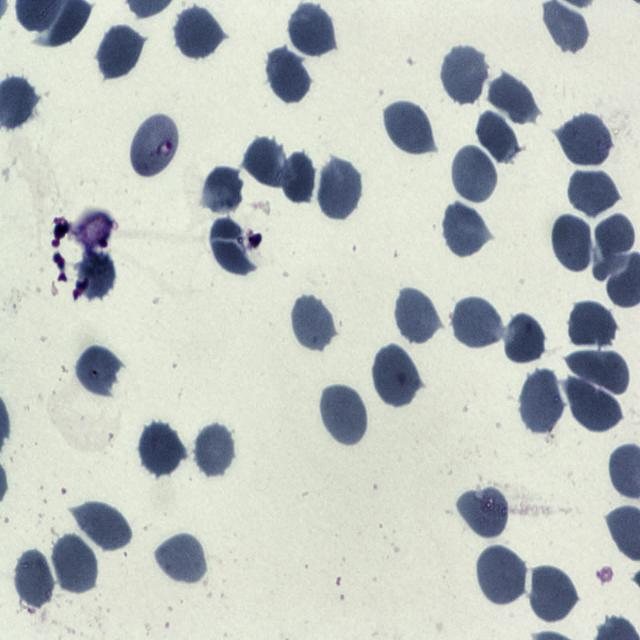red blood cell: (476, 542, 528, 608), (371, 342, 421, 410), (318, 382, 369, 448), (564, 345, 630, 396), (566, 376, 624, 434), (519, 367, 565, 438), (74, 500, 134, 554), (528, 563, 580, 624), (450, 142, 499, 206), (440, 43, 489, 107), (51, 532, 99, 597), (318, 155, 364, 222), (393, 284, 442, 346), (559, 111, 613, 167), (486, 69, 539, 126), (382, 98, 434, 156), (593, 212, 636, 282), (451, 294, 504, 350), (440, 202, 491, 259), (290, 293, 336, 355), (154, 532, 207, 585), (458, 485, 508, 541), (207, 218, 254, 277), (550, 212, 594, 275), (540, 1, 592, 54), (174, 5, 224, 60), (96, 22, 145, 78), (566, 166, 620, 216), (288, 2, 336, 58), (12, 548, 55, 610), (74, 344, 122, 398), (139, 422, 185, 478), (474, 110, 520, 165), (192, 421, 236, 478), (568, 300, 618, 350), (266, 48, 310, 104), (242, 137, 288, 188), (504, 311, 547, 364), (200, 167, 246, 216), (76, 247, 117, 300), (280, 152, 316, 204)
ring: (130, 111, 178, 180)
